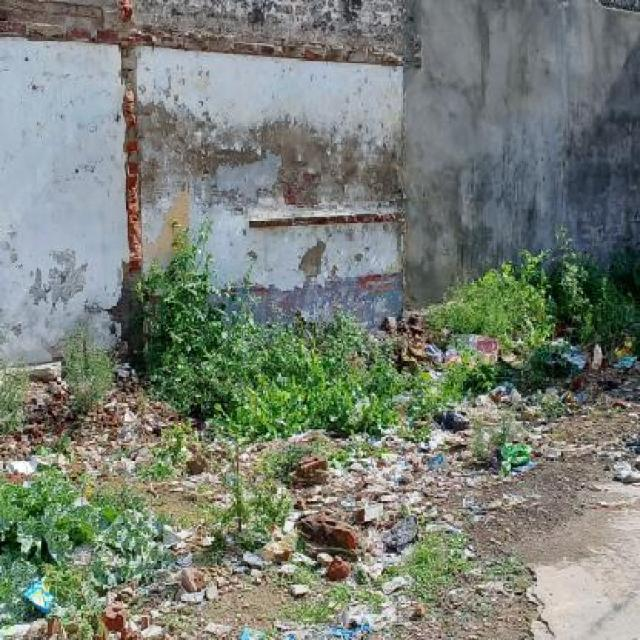garbage: (10, 567, 443, 640), (277, 455, 458, 528), (25, 386, 154, 488), (559, 340, 640, 486), (402, 338, 526, 410), (385, 403, 496, 448)
